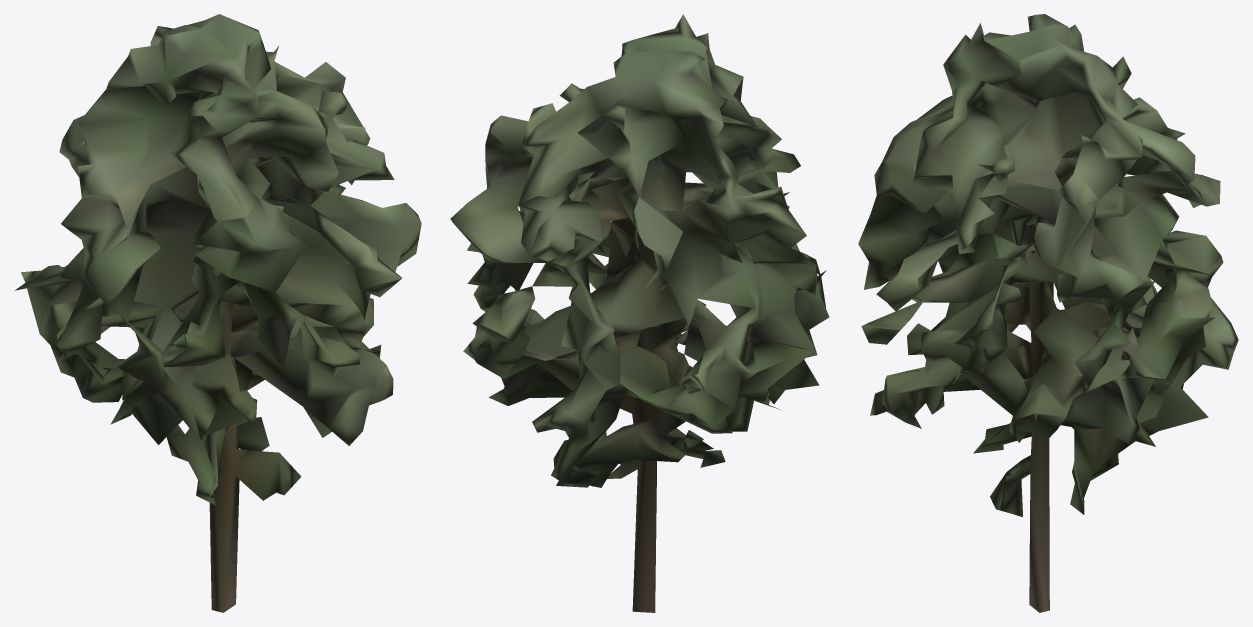
Rendered from oak_near.glb.
3 renders of one model, left to right at view 1: azimuth 30°, elevation 25°; view 2: azimuth 150°, elevation 25°; view 3: azimuth 270°, elevation 25°, orthographic. The views are drawn at different scales.
Visible parts, largest first — view 1: oak; view 2: oak; view 3: oak.
Part boxes in pixels (x1,y1,x2,y2): oak: (15,14,421,612); oak: (450,14,829,612); oak: (858,14,1238,612).
Size of the model in its own units: 0.5987 by 1 by 0.5946.
